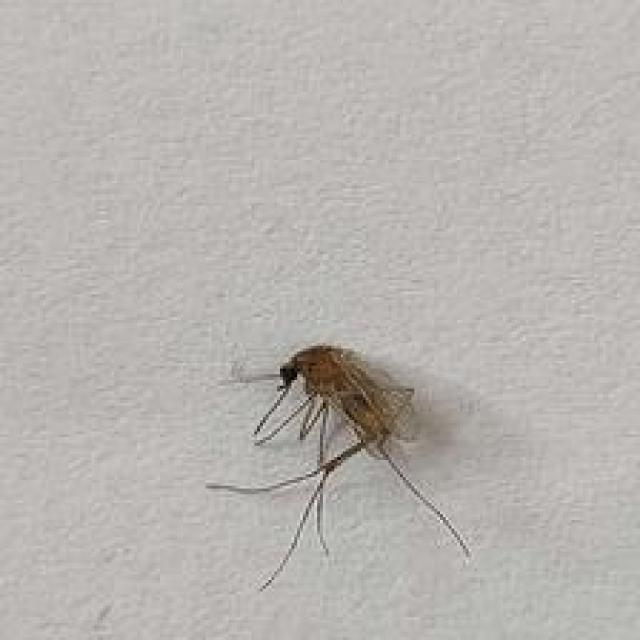Culex: (204, 341, 473, 593)
